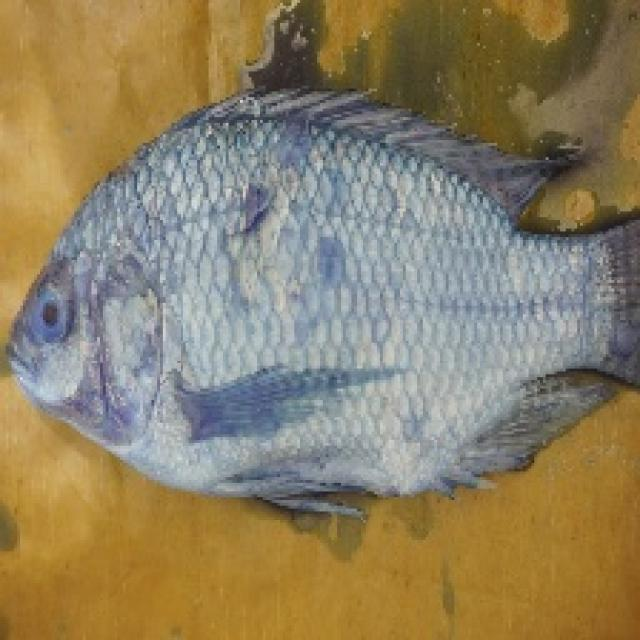Non-Fresh: (15, 129, 594, 501)
